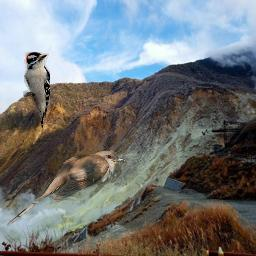Cuckoo: (7, 149, 127, 226)
Woodpecker: (23, 52, 50, 130)
